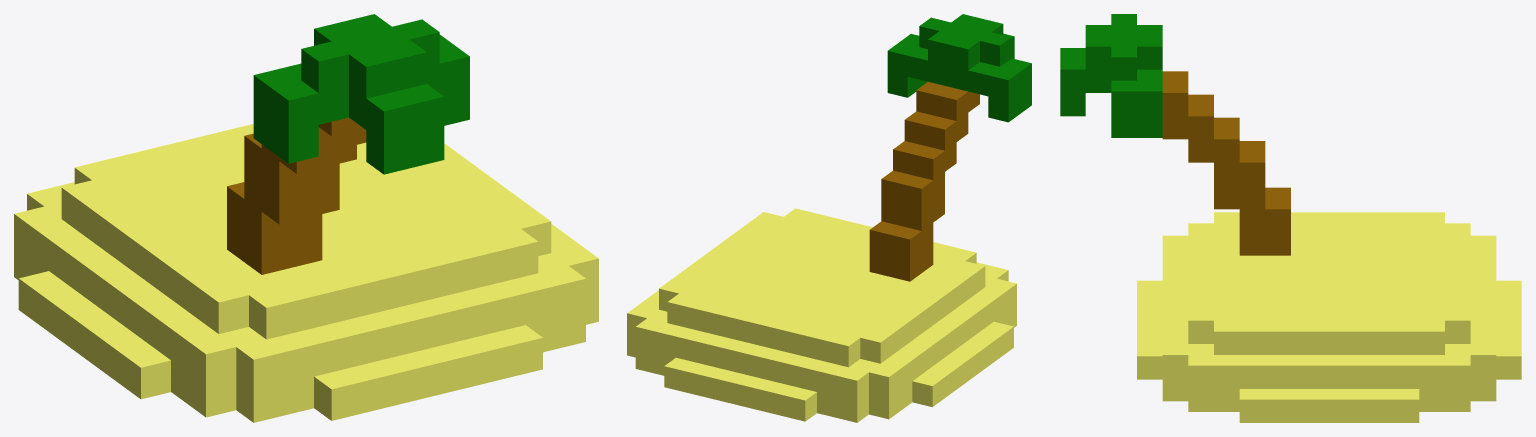
File: isl.dae
3 renders of one model, left to right at view 1: azimuth 30°, elevation 25°; view 2: azimuth 150°, elevation 25°; view 3: azimuth 270°, elevation 25°, orthographic. The views are drawn at different scales.
Visible parts, largest first — view 1: isl.merged; view 2: isl.merged; view 3: isl.merged.
Part boxes in pixels (bbox=[...]): isl.merged: bbox=[14, 14, 598, 422]; isl.merged: bbox=[627, 14, 1031, 422]; isl.merged: bbox=[1060, 14, 1521, 422].
Size of the model in its own units: 1.5 by 1.2 by 1.8.
